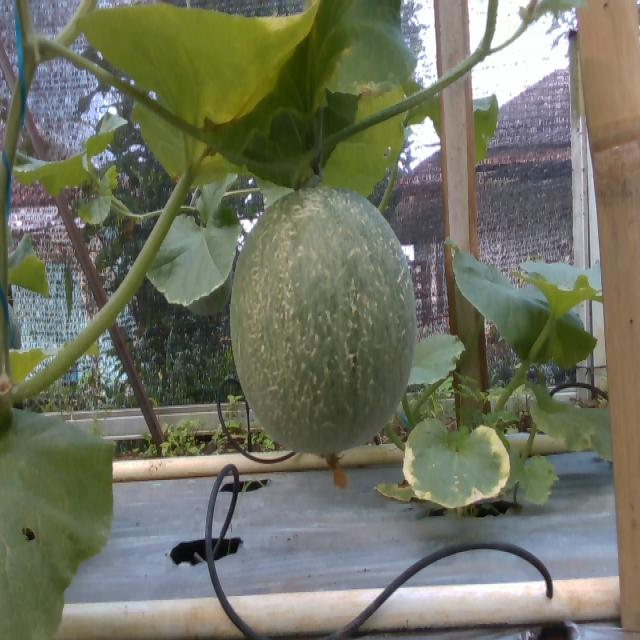melon: (231, 187, 417, 455)
